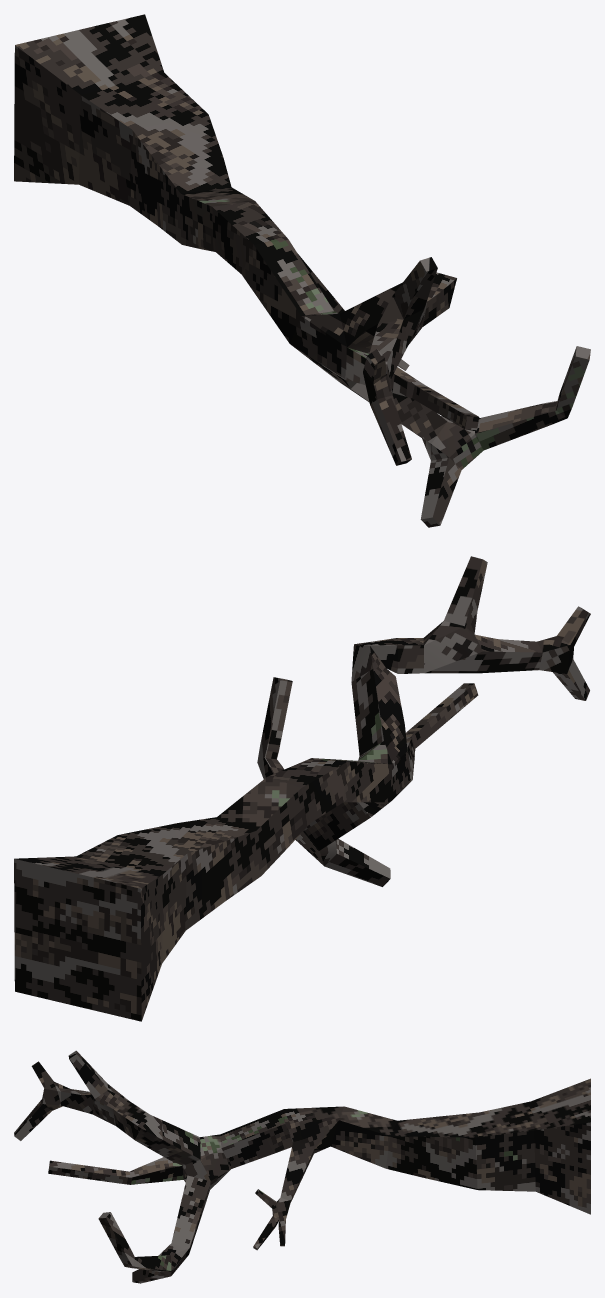
File: dub.obj
3 renders of one model, top to bottom at view 1: azimuth 30°, elevation 25°; view 2: azimuth 150°, elevation 25°; view 3: azimuth 270°, elevation 25°, orthographic. The views are drawn at different scales.
Parts seen in each view (by area): view 1: lowpoly; view 2: lowpoly; view 3: lowpoly.
Boxes of the visible parts, bbox=[...] form: lowpoly: bbox=[14, 14, 590, 527]; lowpoly: bbox=[14, 556, 590, 1021]; lowpoly: bbox=[14, 1050, 590, 1283].
Bounding box in the file's own units: 4.12 × 4.55 × 11.07.
1 material, 1 textured.
